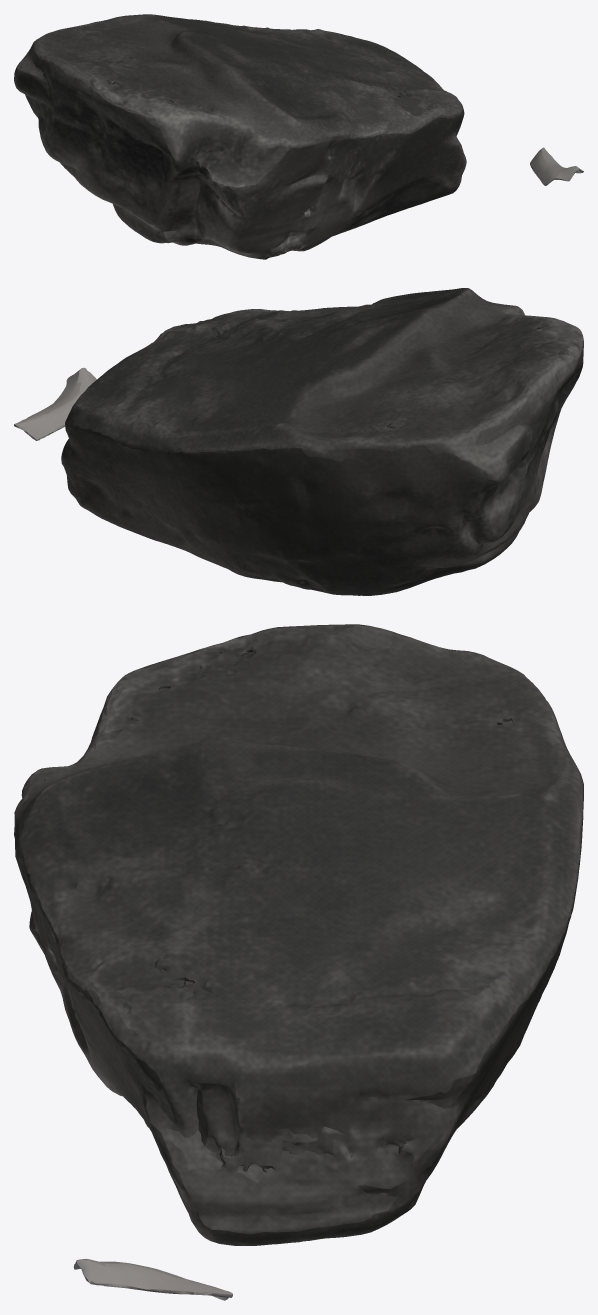
3 views of the same model, one above another, from view 1: azimuth 30°, elevation 25°; view 2: azimuth 150°, elevation 25°; view 3: azimuth 270°, elevation 25° (orthographic). The views are drawn at different scales.
Parts seen in each view (by area): view 1: world; view 2: world; view 3: world.
Boxes of the visible parts, bbox=[...] form: world: bbox=[14, 14, 583, 259]; world: bbox=[14, 288, 583, 595]; world: bbox=[14, 624, 583, 1300].
Size of the model in its own units: 0.35 by 0.1378 by 0.2172.
Materials: 1 (1 with a texture image).
